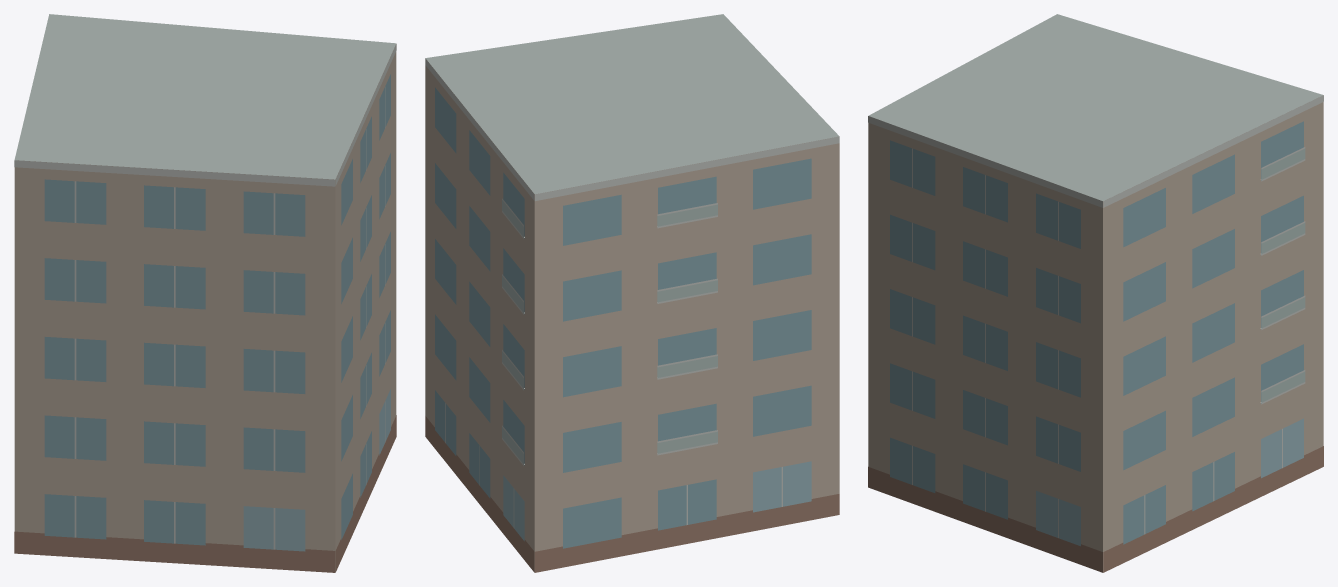
File: survey-upis-32690209.glb
3 renders of one model, left to right at view 1: azimuth 30°, elevation 25°; view 2: azimuth 150°, elevation 25°; view 3: azimuth 270°, elevation 25°, orthographic. The views are drawn at different scales.
Parts seen in each view (by area): view 1: survey-upis-32690209.tmp; view 2: survey-upis-32690209.tmp; view 3: survey-upis-32690209.tmp.
Part boxes in pixels (<box>): survey-upis-32690209.tmp: <box>14,14,396,572</box>; survey-upis-32690209.tmp: <box>425,14,839,572</box>; survey-upis-32690209.tmp: <box>868,14,1323,572</box>.
Size of the model in its own units: 14.55 by 13.45 by 14.95.
